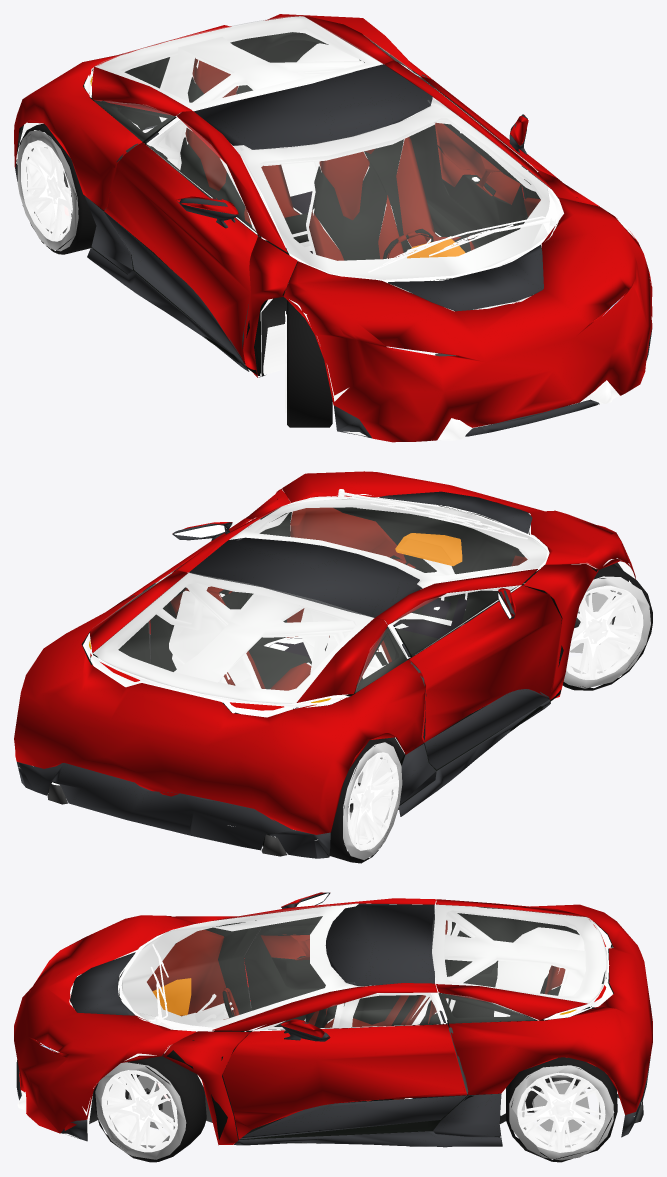
File: car.glb
The picture shows the model from 3 angles, top to bottom: view 1: azimuth 30°, elevation 25°; view 2: azimuth 150°, elevation 25°; view 3: azimuth 270°, elevation 25°; orthographic projection. The views are drawn at different scales.
Visible parts, largest first — view 1: BodyRearPanelsColor1, BodyWindshield, BodyWindshieldGasket, BodyRoofPanel, InteriorDashSides, InteriorDashMid, InteriorSeatsColor2, object 21, WheelFrontLRim, InteriorMid, BodyUnderside, InteriorSteeringDash; view 2: BodyRearPanelsColor1, BodyWindshield, BodyRoofPanel, BodyWindshieldGasket, InteriorDashMid, WheelFrontLRim, object 21, InteriorDashSides, InteriorSeatsColor2, InteriorFloormats, InteriorSteeringDash, BodyUnderside (+1 smaller); view 3: BodyRearPanelsColor1, BodyWindshield, BodyWindshieldGasket, BodyRoofPanel, object 21, WheelFrontLRim, InteriorDashMid, InteriorDashSides, InteriorMid, WheelFrontLBrakeDisc, BodyUnderside, InteriorSeatsColor2 (+1 smaller).
Boxes of the visible parts, <box> form: BodyRearPanelsColor1: <box>14,14,652,442</box>; BodyWindshield: <box>94,16,549,279</box>; BodyWindshieldGasket: <box>16,16,652,440</box>; BodyRoofPanel: <box>15,64,652,438</box>; InteriorDashSides: <box>185,58,540,260</box>; InteriorDashMid: <box>15,32,527,285</box>; InteriorSeatsColor2: <box>180,77,471,260</box>; object 21: <box>17,123,332,427</box>; WheelFrontLRim: <box>21,140,332,414</box>; InteriorMid: <box>92,171,577,375</box>; BodyUnderside: <box>18,74,536,377</box>; InteriorSteeringDash: <box>407,239,465,258</box>; BodyRearPanelsColor1: <box>14,471,635,834</box>; BodyWindshield: <box>93,497,546,703</box>; BodyRoofPanel: <box>17,491,550,858</box>; BodyWindshieldGasket: <box>18,481,636,840</box>; InteriorDashMid: <box>48,505,524,846</box>; WheelFrontLRim: <box>347,585,643,850</box>; object 21: <box>329,564,652,863</box>; InteriorDashSides: <box>170,507,541,690</box>; InteriorSeatsColor2: <box>176,608,437,689</box>; InteriorFloormats: <box>269,598,467,708</box>; InteriorSteeringDash: <box>395,533,462,566</box>; BodyUnderside: <box>47,531,628,856</box>; BodyRearPanelsColor1: <box>14,892,652,1145</box>; BodyWindshield: <box>122,903,606,1030</box>; BodyWindshieldGasket: <box>17,901,642,1143</box>; BodyRoofPanel: <box>16,892,652,1147</box>; object 21: <box>93,1053,617,1162</box>; WheelFrontLRim: <box>101,1063,605,1152</box>; InteriorDashMid: <box>118,906,613,1031</box>; InteriorDashSides: <box>147,920,565,1105</box>; InteriorMid: <box>166,922,499,1143</box>; WheelFrontLBrakeDisc: <box>128,1075,589,1133</box>; BodyUnderside: <box>37,928,643,1123</box>; InteriorSeatsColor2: <box>304,974,561,1102</box>.
Bounding box in the file's own units: 2.54 × 1.15 × 4.35.
23 materials, 12 textured.
